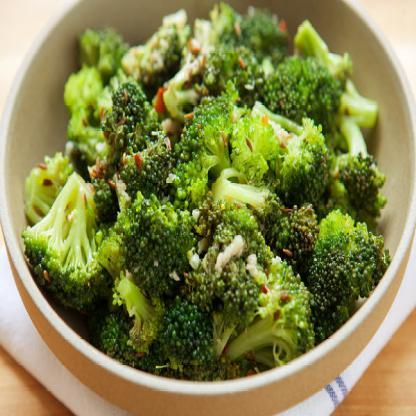broccoli: (16, 0, 392, 383)
